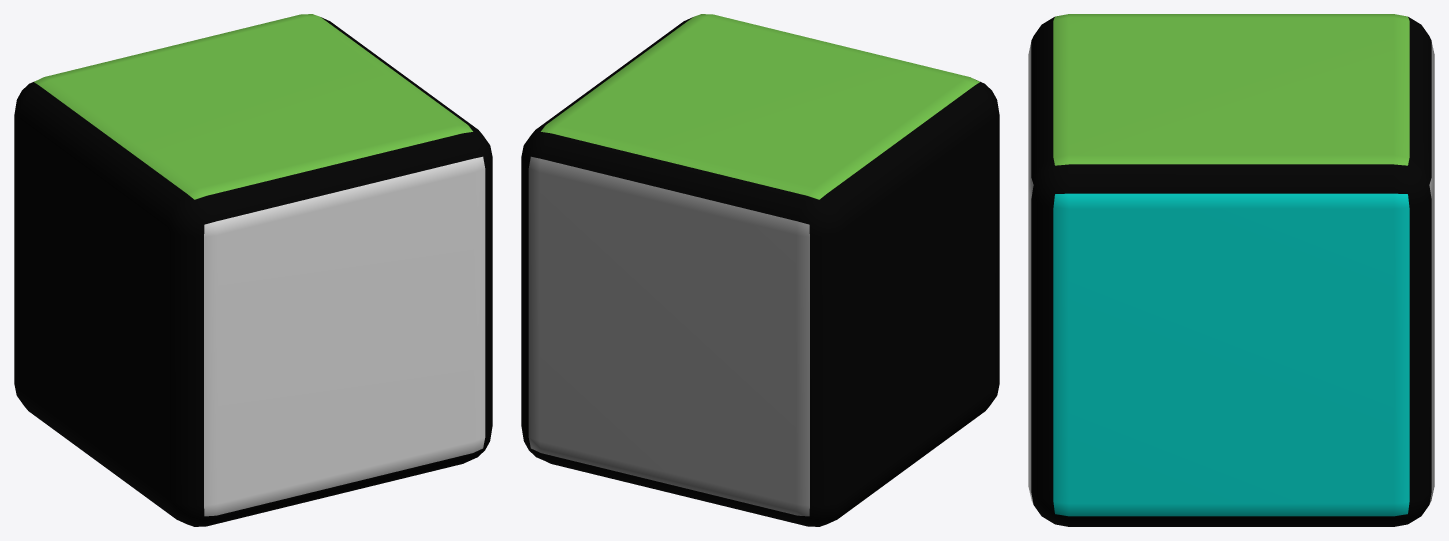
3 views of the same model, side by side, from view 1: azimuth 30°, elevation 25°; view 2: azimuth 150°, elevation 25°; view 3: azimuth 270°, elevation 25° (orthographic). The views are drawn at different scales.
Visible parts, largest first — view 1: pCube1; view 2: pCube1; view 3: pCube1.
Boxes of the visible parts, x1=… form: pCube1: x1=14, y1=14, x2=492, y2=526; pCube1: x1=521, y1=14, x2=999, y2=526; pCube1: x1=1028, y1=14, x2=1434, y2=526.
Size of the model in its own units: 1 by 1 by 1.
